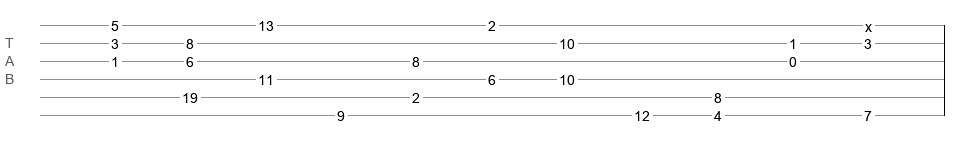0: (789, 54, 797, 64)
1: (111, 54, 119, 64), (789, 36, 797, 46)
10: (559, 36, 575, 46), (559, 72, 575, 82)
11: (258, 72, 274, 82)
12: (634, 108, 650, 118)
13: (258, 18, 274, 28)
19: (182, 90, 198, 100)
2: (412, 90, 420, 100), (488, 18, 496, 28)
3: (111, 36, 119, 46), (864, 36, 872, 46)
4: (714, 108, 722, 118)
5: (111, 18, 119, 28)
6: (186, 54, 194, 64), (488, 72, 496, 82)
7: (864, 108, 872, 118)
8: (186, 36, 194, 46), (412, 54, 420, 64), (714, 90, 722, 100)
9: (337, 108, 345, 118)
x: (865, 19, 872, 27)
